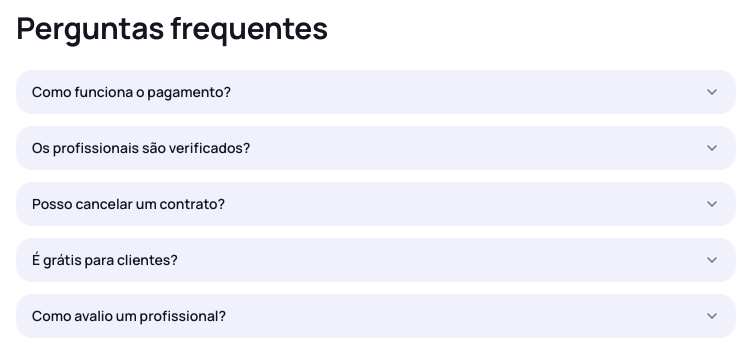
Test case: Faq › expande a resposta ao clicar na pergunta e recolhe ao clicar de novo
The width and height of the screenshot is (753, 355).
Click the button "Como funciona o pagamento?" at (132, 92), box [16,70,736,114]
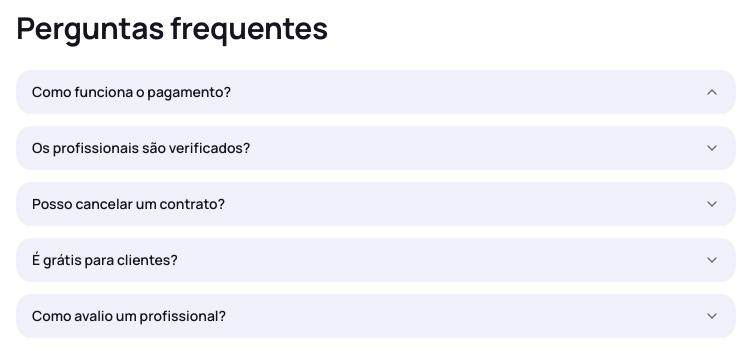
Check: the button "Como funciona o pagamento?" is expanded
Click the button "Como funciona o pagamento?" at (132, 92), box [16,70,736,114]
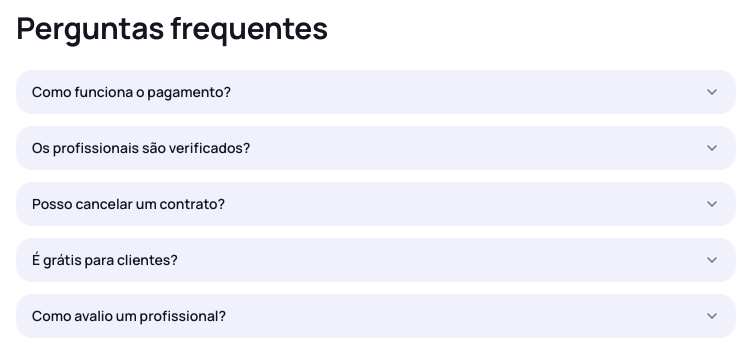
Check: the button "Como funciona o pagamento?" is collapsed, box [16,70,736,114]
